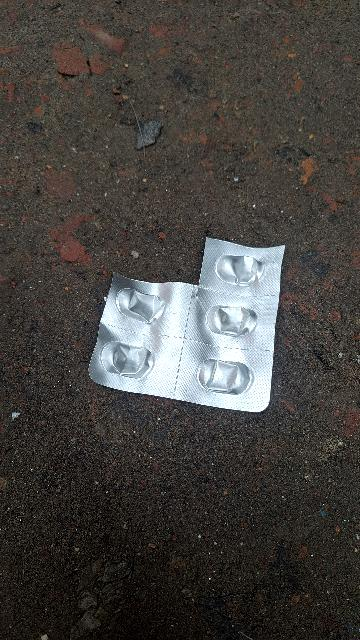medicine: (84, 204, 306, 423)
